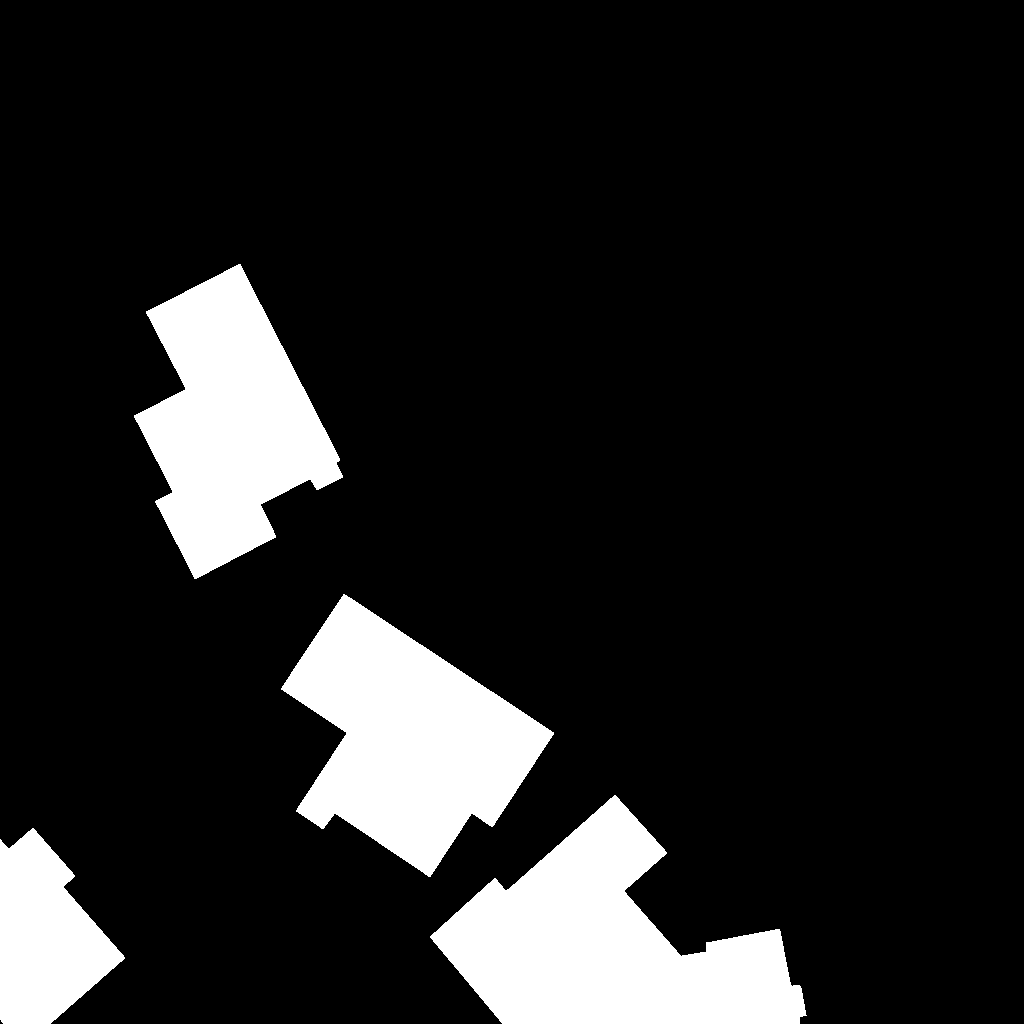building: (430, 795, 807, 1024), (281, 594, 555, 878), (134, 264, 344, 580), (0, 828, 126, 1024)
